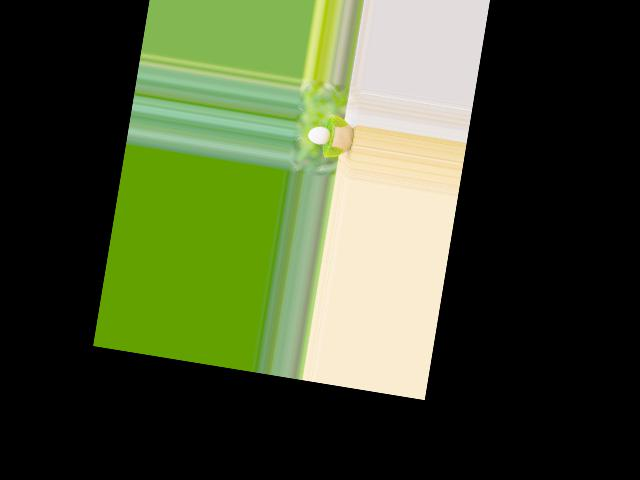egg: (307, 124, 332, 145)
